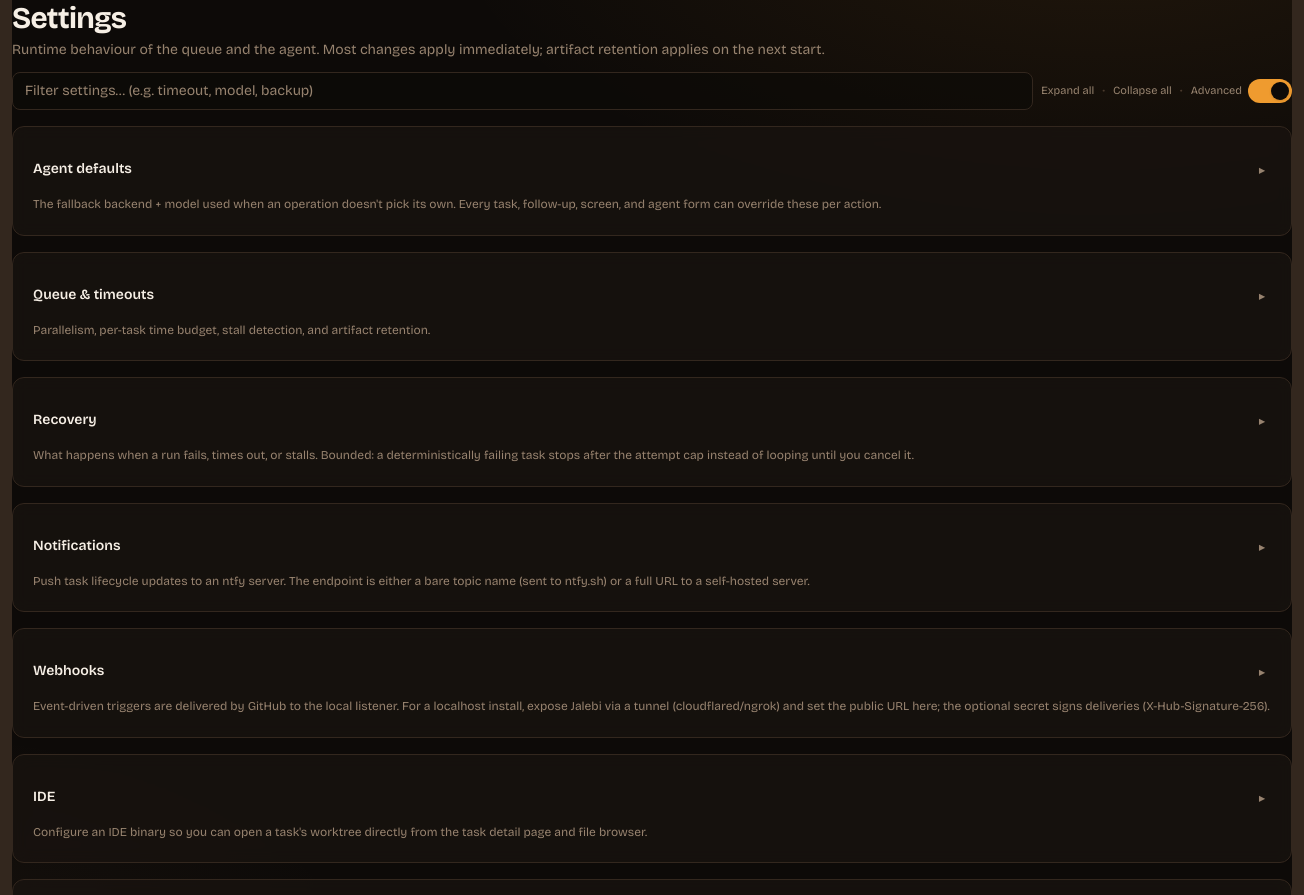
it: Settings › shows the stall-timeout and continue-prompt recovery fields
Expected: the field labelled "Filter settings" is shown, [12,72,1033,110]
Click the button "Queue & timeouts ▸" at (94, 294), box [33,272,1271,316]
(page scrolled)
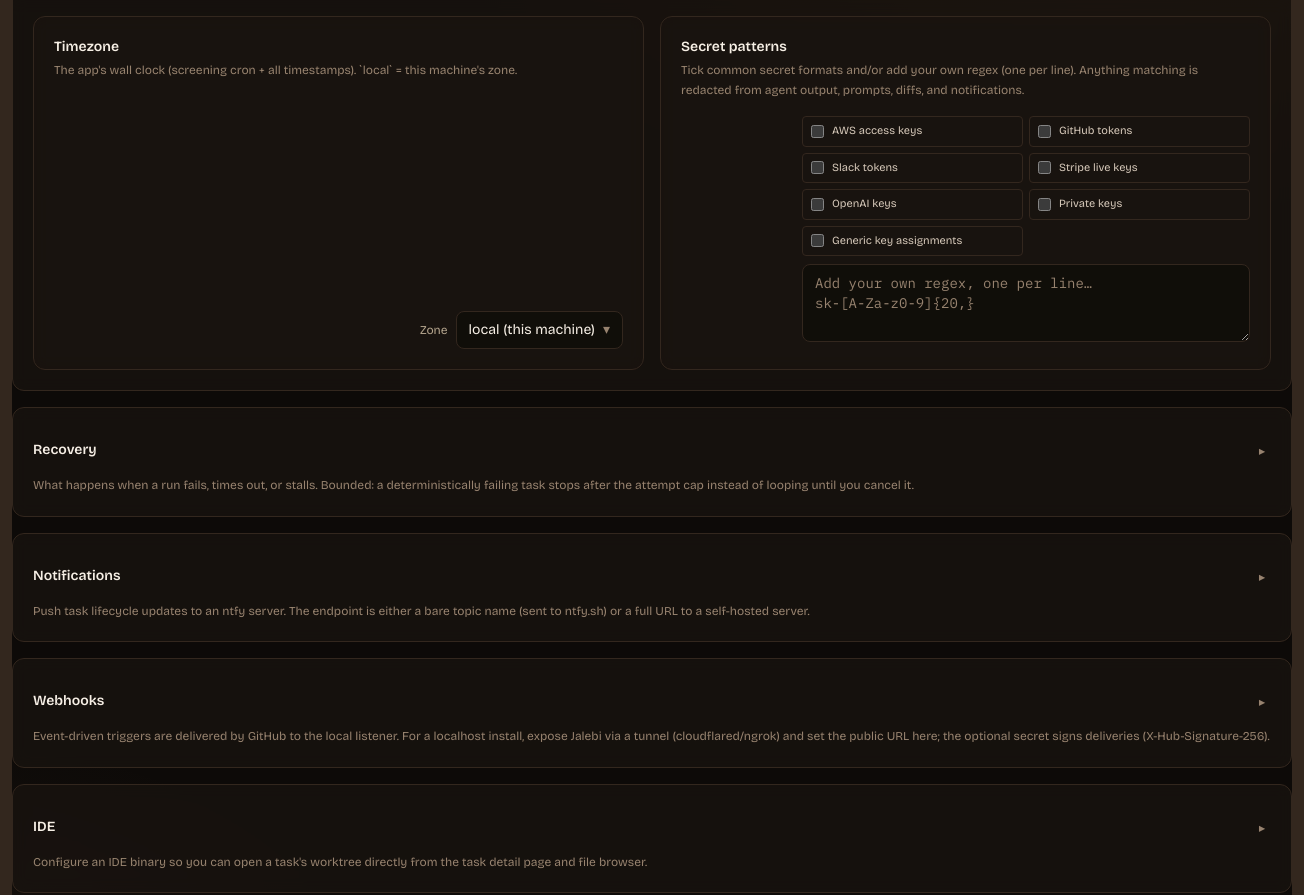
Click the button "Recovery ▸" at (65, 450), box [33,428,1271,472]
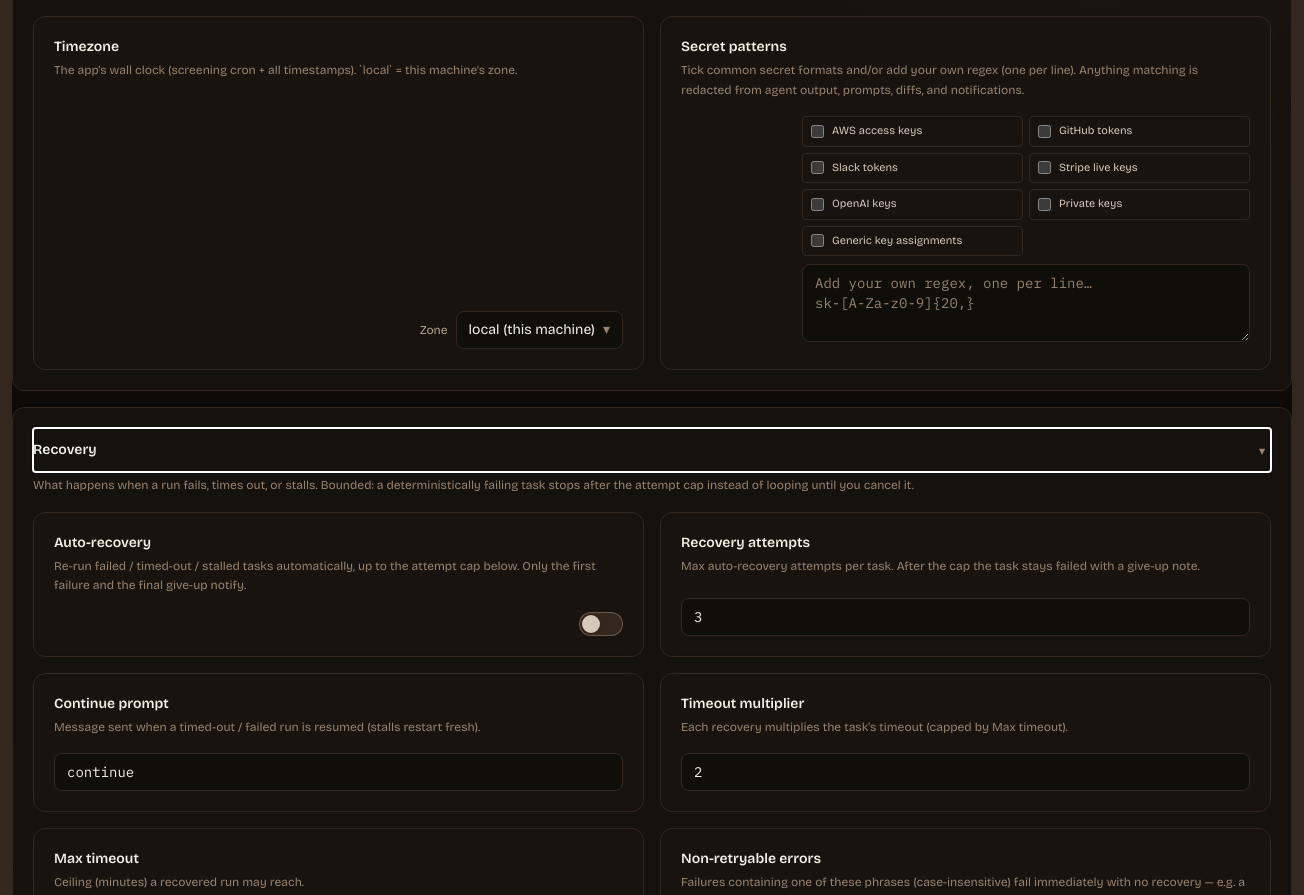
Result: the heading "Continue prompt" is shown at [54,694,169,714]
Result: the heading "Timeout multiplier" is shown at [681,694,804,714]
Result: the heading "Max timeout" is shown at [54,849,139,869]
